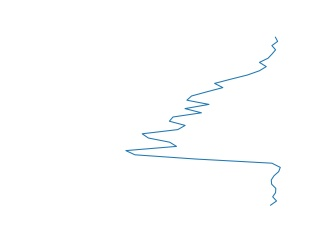proximalDeepseaFan: (122, 34, 287, 207)
